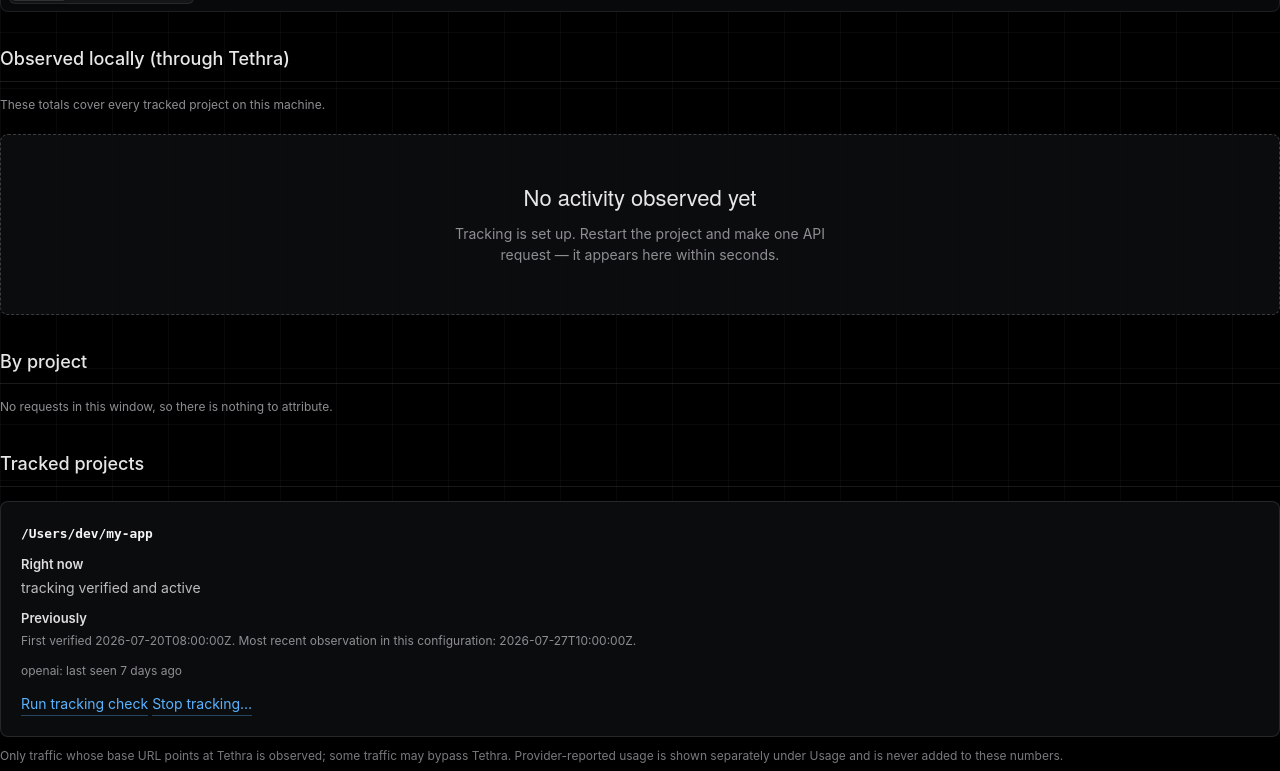
Scenario: DashboardView › reports an incomplete stop honestly
(page scrolled)
Click the button "Stop tracking…" at point(202, 704), box [152, 693, 252, 716]
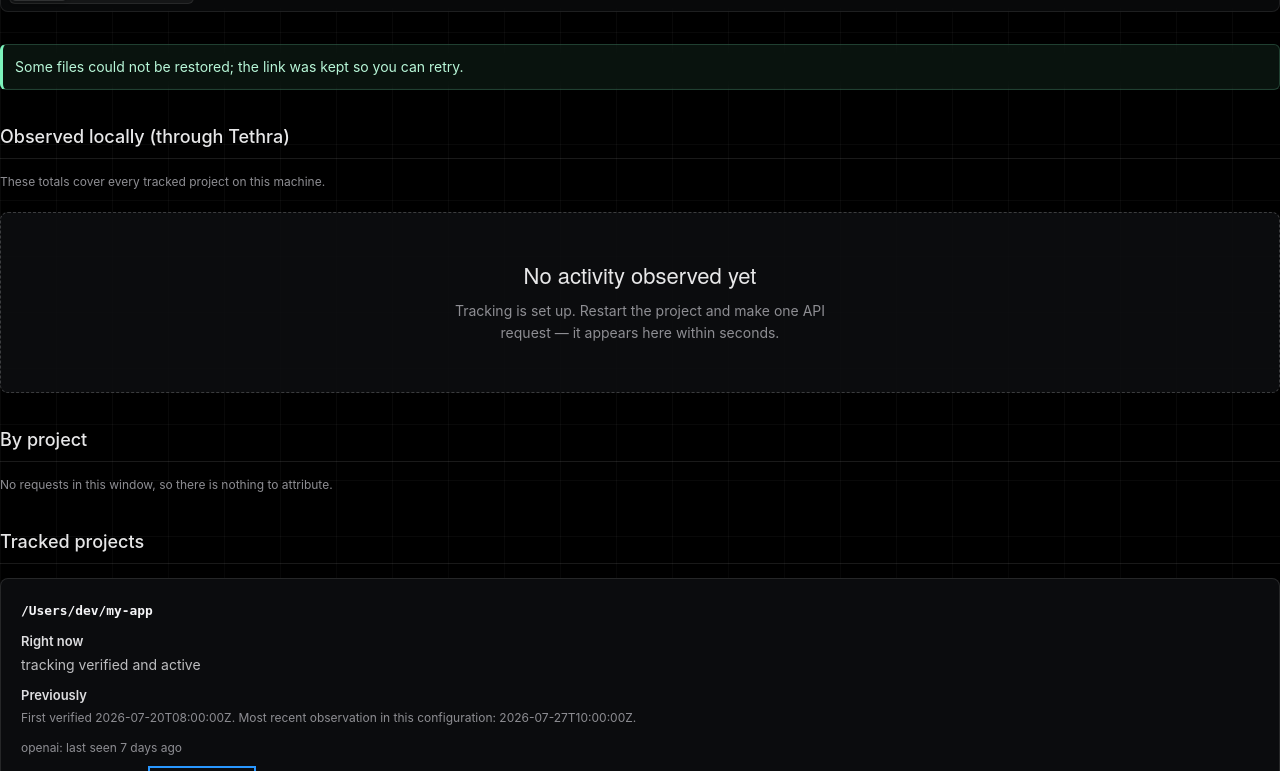
Check: the text "Some files could not be restored; the link was kept" is shown, box [15, 58, 464, 75]
